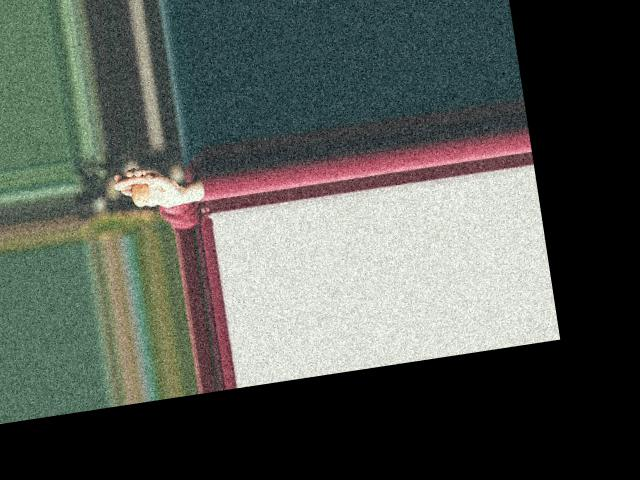egg: (130, 182, 151, 207)
